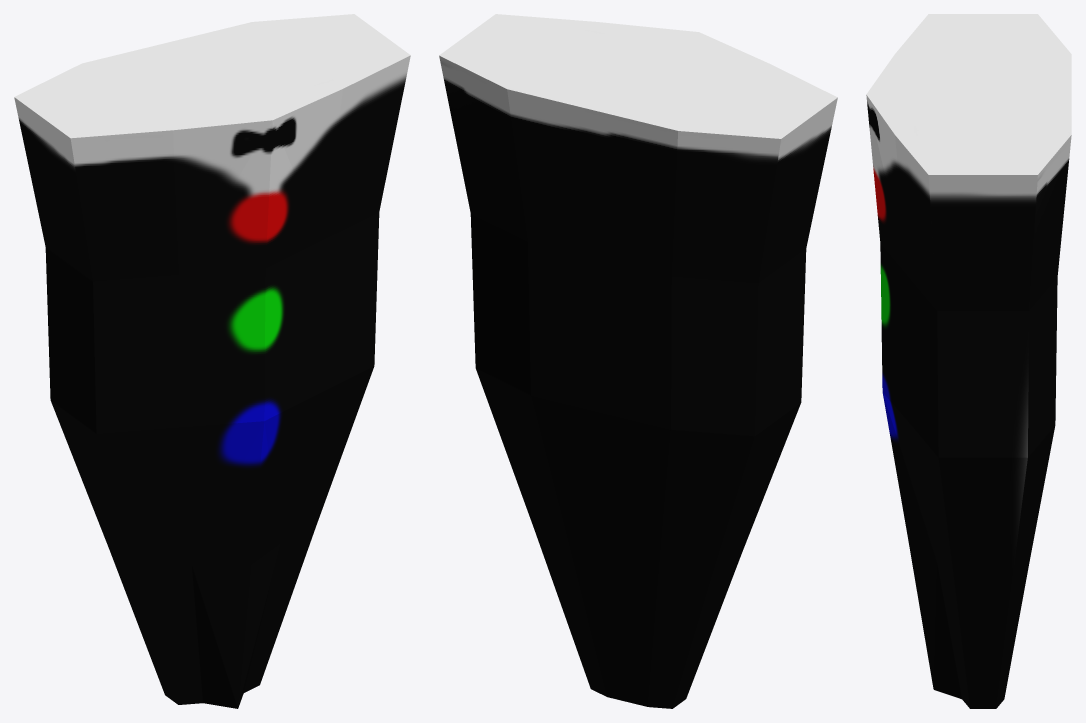
File: TestPlayerver_body.obj
3 renders of one model, left to right at view 1: azimuth 30°, elevation 25°; view 2: azimuth 150°, elevation 25°; view 3: azimuth 270°, elevation 25°, orthographic. The views are drawn at different scales.
Parts seen in each view (by area): view 1: C_Body; view 2: C_Body; view 3: C_Body.
Part boxes in pixels (<box>): C_Body: <box>14,14,410,708</box>; C_Body: <box>439,14,837,708</box>; C_Body: <box>866,14,1071,708</box>.
Bounding box in the file's own units: 2 × 3.45 × 1.08.
Materials: 1 (1 with a texture image).
